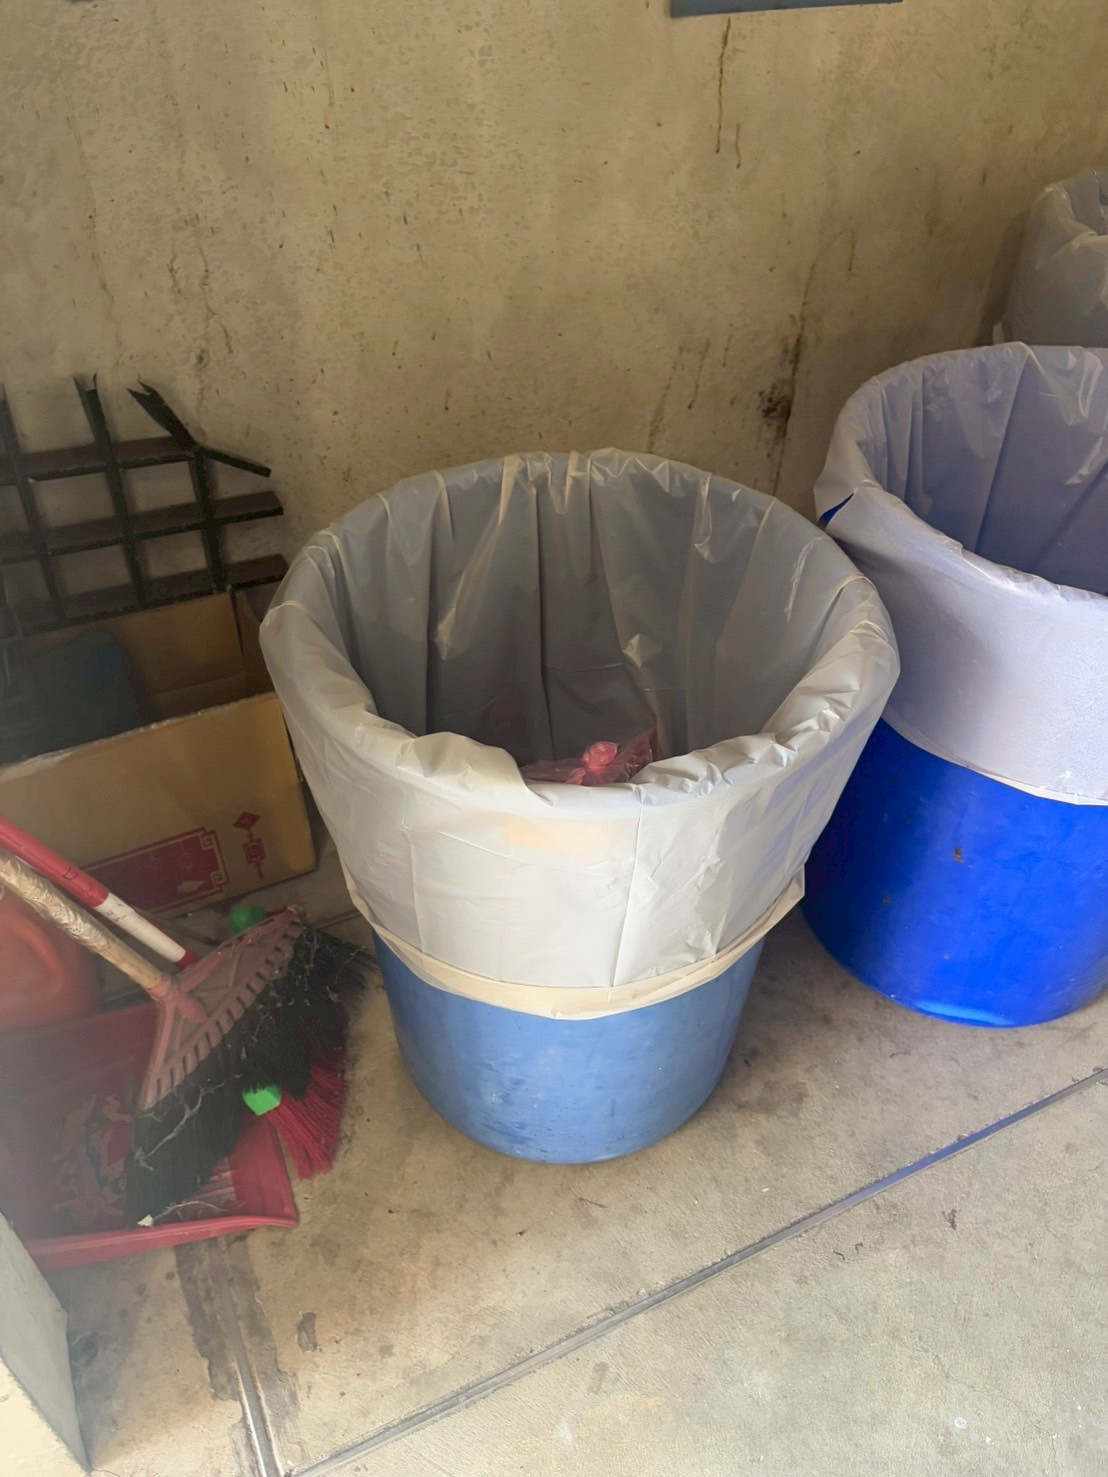normal_bin: (248, 436, 930, 1195)
